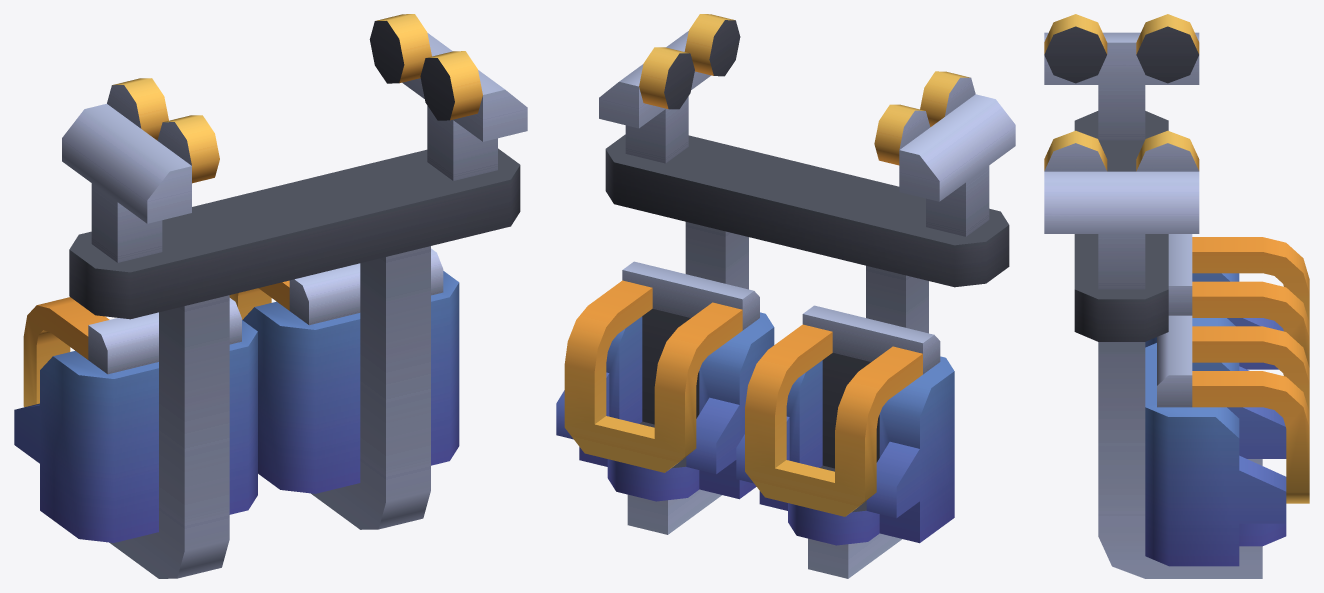
File: coaster-train-hanging.glb
The picture shows the model from 3 angles, left to right: view 1: azimuth 30°, elevation 25°; view 2: azimuth 150°, elevation 25°; view 3: azimuth 270°, elevation 25°; orthographic projection. The views are drawn at different scales.
Parts seen in each view (by area): view 1: coaster-train-hanging; view 2: coaster-train-hanging; view 3: coaster-train-hanging.
Part boxes in pixels (x1,y1,x2,y2): coaster-train-hanging: (14, 14, 527, 578); coaster-train-hanging: (556, 14, 1015, 578); coaster-train-hanging: (1044, 14, 1309, 578).
Size of the model in its own units: 0.95 by 1.05 by 0.565.
1 material, 1 textured.
